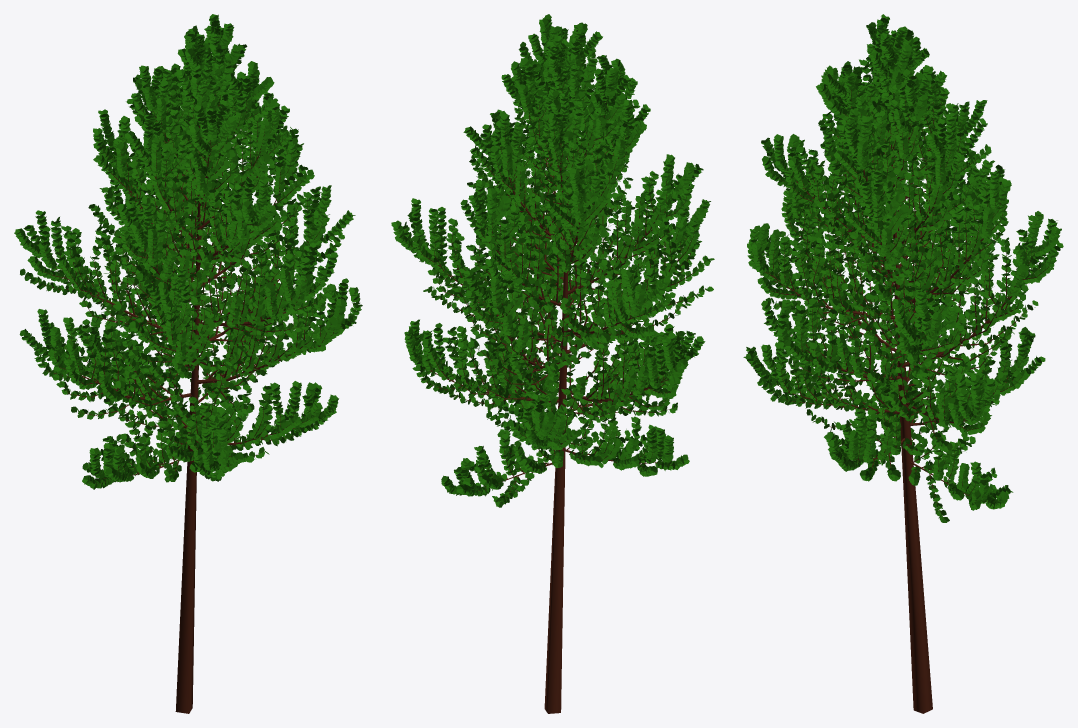
The model's file is tree.fbx.
3 views of the same model, side by side, from view 1: azimuth 30°, elevation 25°; view 2: azimuth 150°, elevation 25°; view 3: azimuth 270°, elevation 25° (orthographic). The views are drawn at different scales.
Visible parts, largest first — view 1: leaves, tree; view 2: leaves, tree; view 3: leaves, tree.
Boxes of the visible parts, x1=… form: leaves: x1=14, y1=14, x2=362, y2=489; tree: x1=28, y1=66, x2=353, y2=713; leaves: x1=391, y1=14, x2=714, y2=507; tree: x1=404, y1=58, x2=705, y2=713; leaves: x1=743, y1=14, x2=1063, y2=522; tree: x1=752, y1=54, x2=1051, y2=713.
Bounding box in the file's own units: 815 × 1756 × 737.
